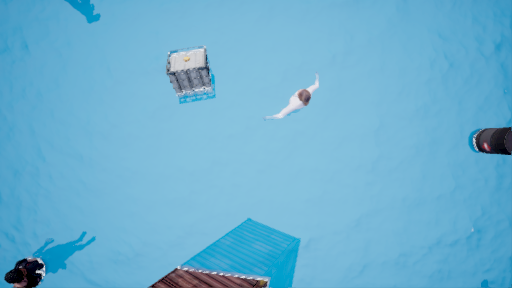person: (5, 237, 106, 287), (271, 75, 327, 127)
